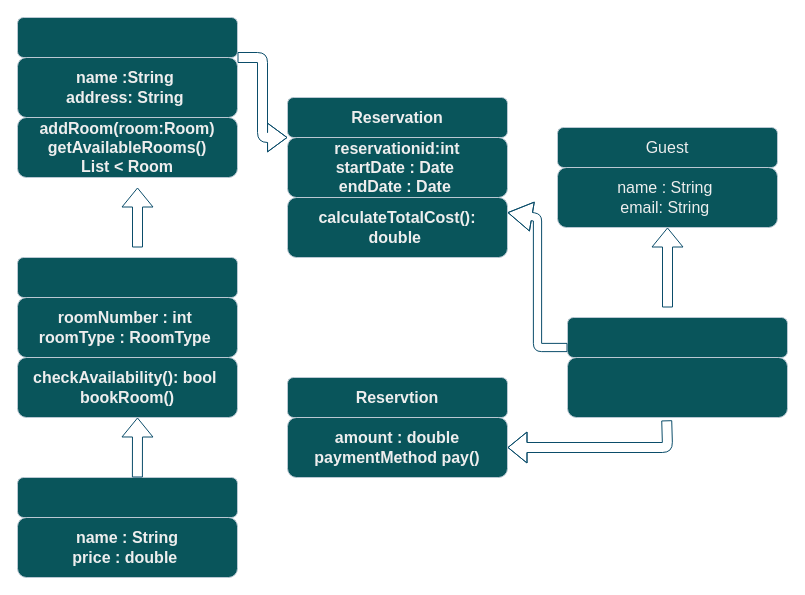
Some shapes in this 805 by 595 pixel diagram are drawn without their labels. The centre of each missing label's shape, as x and y in pixels:
"amount : double paymentMethodpay()" belongs at point 677,387.
"Hotel" belongs at point 127,37.
"Payment" belongs at point 677,337.
"Room" belongs at point 127,277.
"RoomType" belongs at point 127,497.
